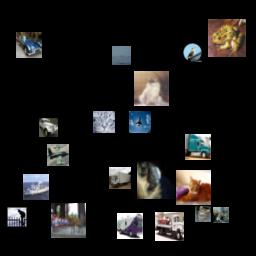airplane: (129, 111, 151, 133), (47, 144, 69, 166)
automobile: (16, 32, 42, 58), (39, 118, 58, 137)
bird: (183, 43, 202, 62)
cat: (176, 170, 211, 205), (134, 71, 169, 106), (6, 206, 28, 228), (93, 111, 115, 133), (195, 206, 211, 222)
deer: (51, 203, 86, 238)
dog: (137, 161, 175, 199)
frog: (208, 19, 246, 57), (213, 207, 229, 223)
ship: (23, 174, 49, 200), (112, 46, 131, 65)
truck: (155, 212, 184, 241), (185, 134, 211, 160), (117, 213, 143, 239), (109, 167, 131, 189)
